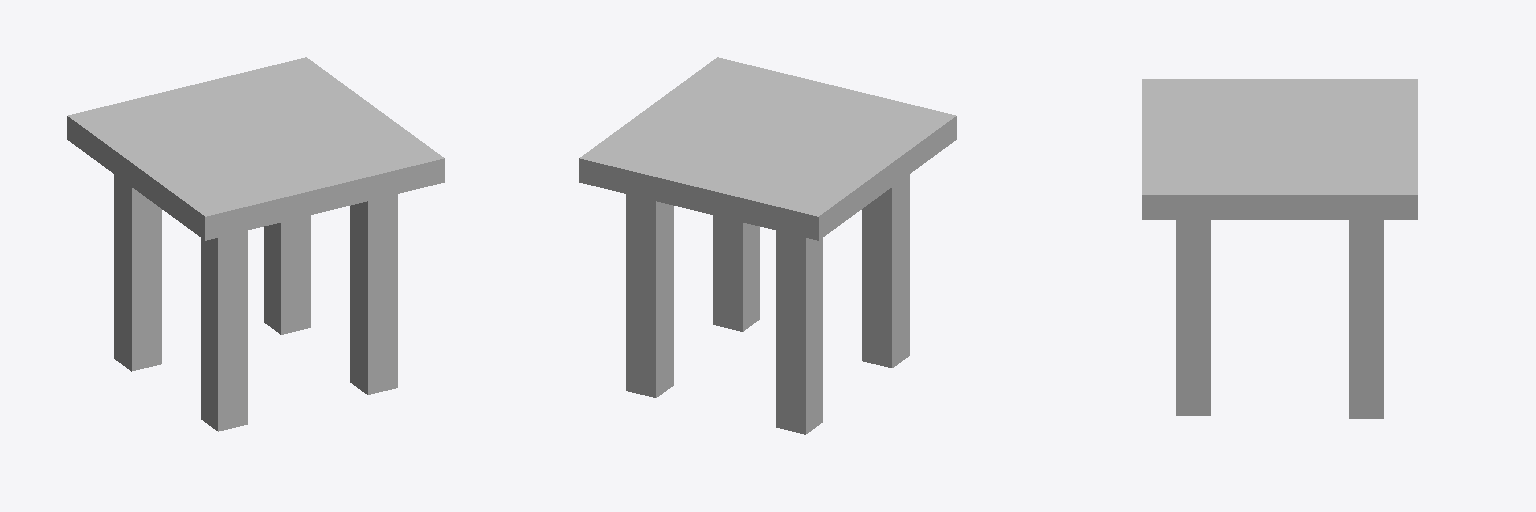
Rendered from Table.obj.
The picture shows the model from 3 angles: view 1: azimuth 30°, elevation 25°; view 2: azimuth 150°, elevation 25°; view 3: azimuth 270°, elevation 25°; orthographic projection.
Visible parts, largest first — view 1: Plane; view 2: Plane; view 3: Plane.
Part boxes in pixels (bbox=[...]): Plane: bbox=[67, 57, 444, 431]; Plane: bbox=[579, 57, 956, 434]; Plane: bbox=[1142, 79, 1417, 418].
Bounding box in the file's own units: 2 × 1.9 × 2.